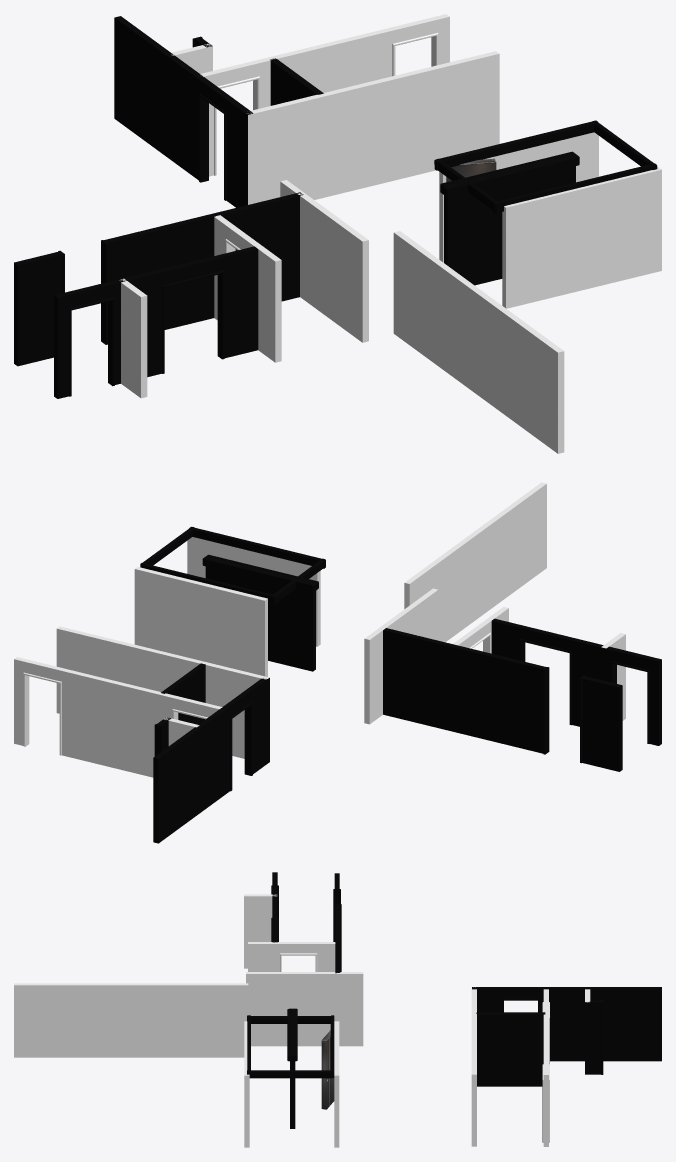
Rendered from Divisiones_PB.obj.
3 views of the same model, one above another, from view 1: azimuth 30°, elevation 25°; view 2: azimuth 150°, elevation 25°; view 3: azimuth 270°, elevation 25° (orthographic). The views are drawn at different scales.
Visible parts, largest first — view 1: polySurface203; view 2: polySurface203; view 3: polySurface203.
Boxes of the visible parts, x1,y1,x2,y2 form: polySurface203: [14, 14, 661, 453]; polySurface203: [14, 482, 661, 843]; polySurface203: [14, 872, 661, 1147].
Size of the model in its own units: 5.63 by 0.9693 by 7.58.
Materials: 3 (3 with a texture image).
